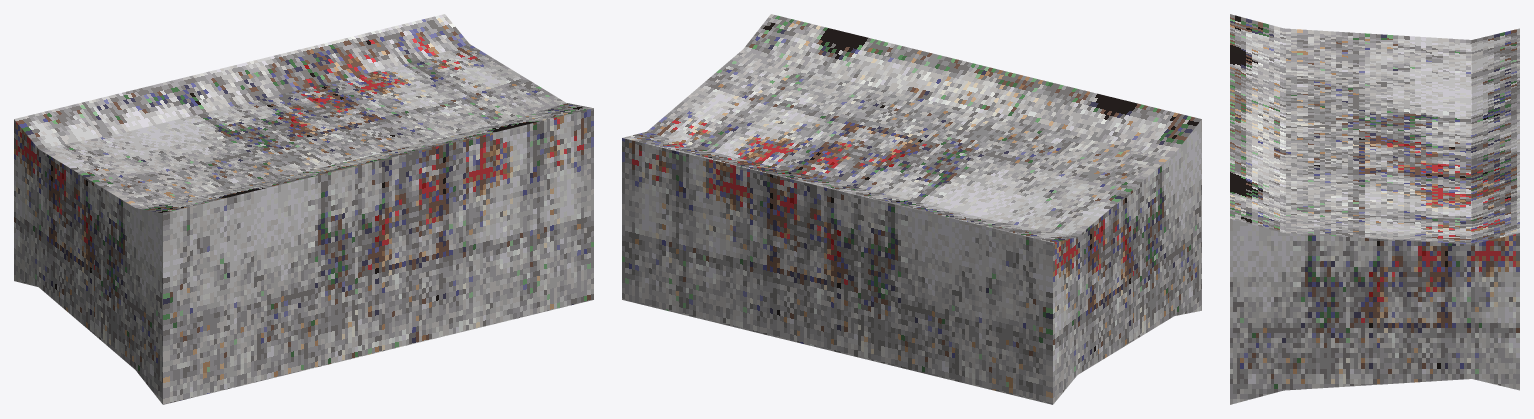
Rendered from Road_Blocks_-_Grey.glb.
3 views of the same model, side by side, from view 1: azimuth 30°, elevation 25°; view 2: azimuth 150°, elevation 25°; view 3: azimuth 270°, elevation 25° (orthographic). The views are drawn at different scales.
Visible parts, largest first — view 1: Road Blocks - Grey; view 2: Road Blocks - Grey; view 3: Road Blocks - Grey.
Part boxes in pixels (x1,y1,x2,y2): Road Blocks - Grey: (14, 14, 593, 404); Road Blocks - Grey: (622, 14, 1201, 404); Road Blocks - Grey: (1230, 14, 1519, 404).
Bounding box in the file's own units: 0.462 × 0.1963 × 0.2766.
Materials: 1 (1 with a texture image).
